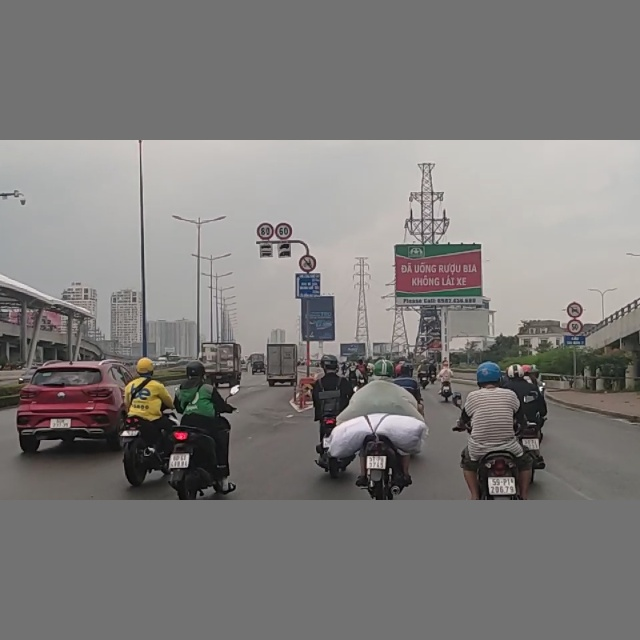P.103a: (567, 302, 582, 318)
P.104: (299, 255, 317, 273)
P.127*50: (569, 319, 583, 335)
P.127*60: (275, 223, 291, 239)
P.127*80: (257, 223, 273, 240)
